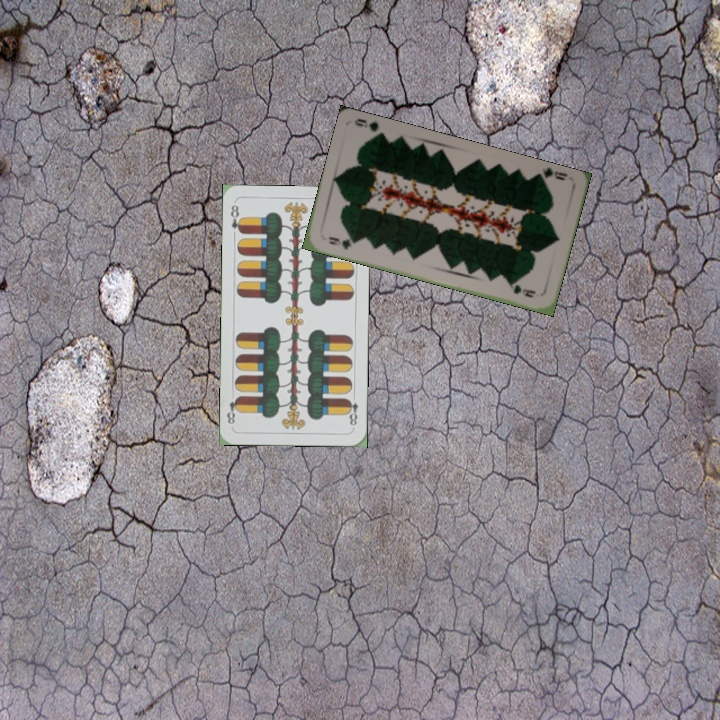E8: (343, 390, 360, 430), (226, 201, 245, 236)
G9: (532, 164, 570, 185), (324, 232, 361, 252)
